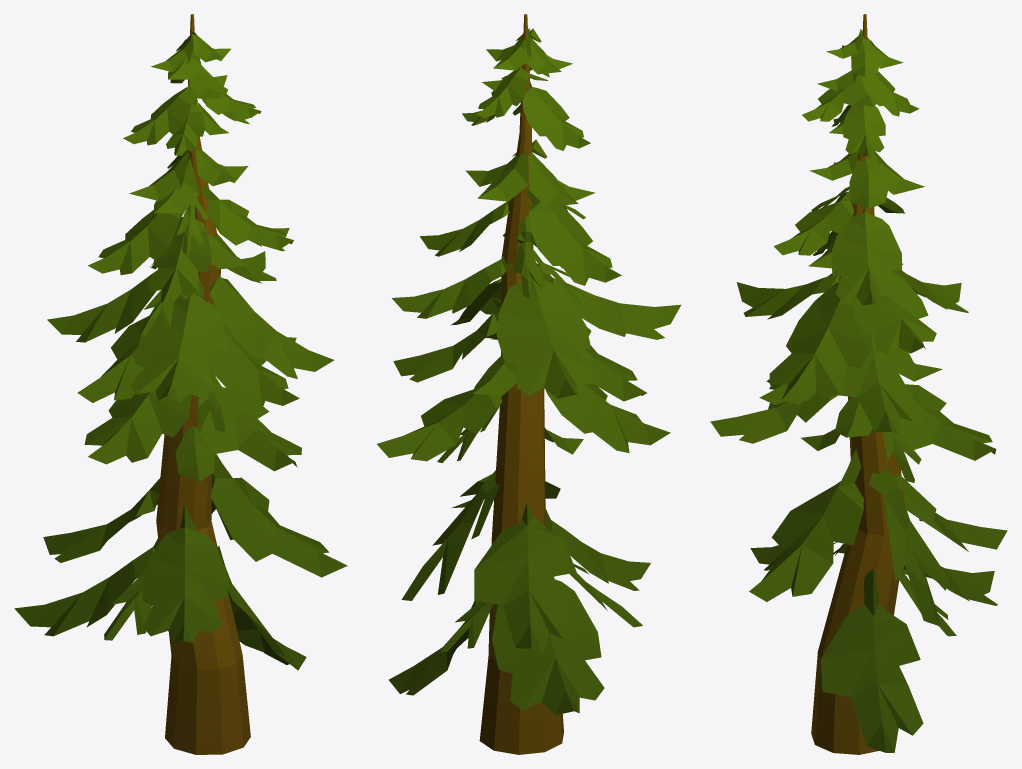
The picture shows the model from 3 angles, left to right: view 1: azimuth 30°, elevation 25°; view 2: azimuth 150°, elevation 25°; view 3: azimuth 270°, elevation 25°; orthographic projection.
Parts seen in each view (by area): view 1: coniferous_trees_11; view 2: coniferous_trees_11; view 3: coniferous_trees_11.
Boxes of the visible parts, x1=… form: coniferous_trees_11: x1=14, y1=14, x2=347, y2=754; coniferous_trees_11: x1=377, y1=14, x2=680, y2=754; coniferous_trees_11: x1=710, y1=14, x2=1007, y2=754.
Bounding box in the file's own units: 1.77 × 4.89 × 1.84.
